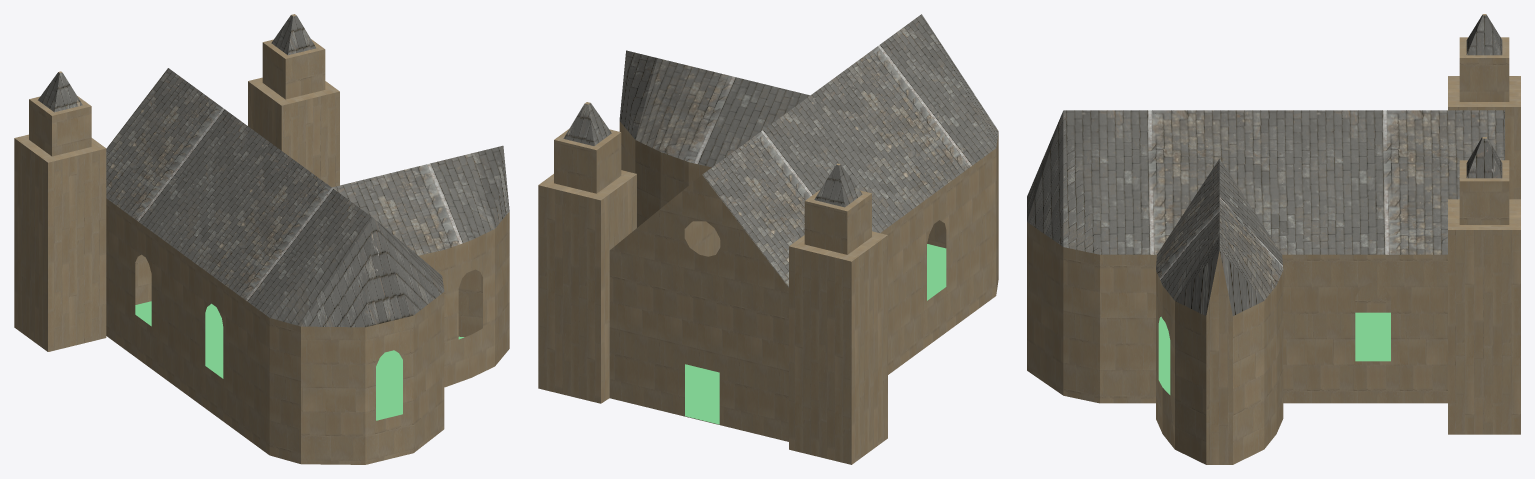
File: school_big.glb
3 renders of one model, left to right at view 1: azimuth 30°, elevation 25°; view 2: azimuth 150°, elevation 25°; view 3: azimuth 270°, elevation 25°, orthographic. The views are drawn at different scales.
Parts seen in each view (by area): view 1: Cube; view 2: Cube; view 3: Cube.
Part boxes in pixels (x1,y1,x2,y2): Cube: (14, 14, 509, 464); Cube: (538, 14, 998, 464); Cube: (1027, 14, 1520, 464).
Size of the model in its own units: 11.97 by 8.53 by 13.57.
Materials: 3 (2 with a texture image).
